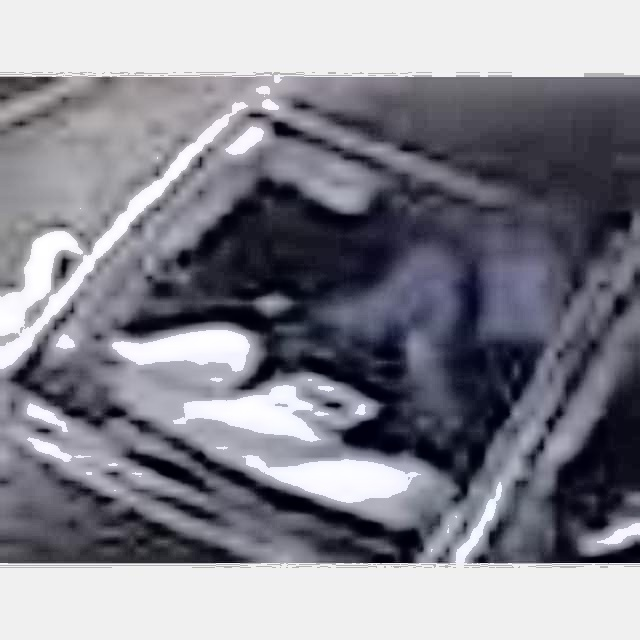pakai: (333, 188, 512, 452)
